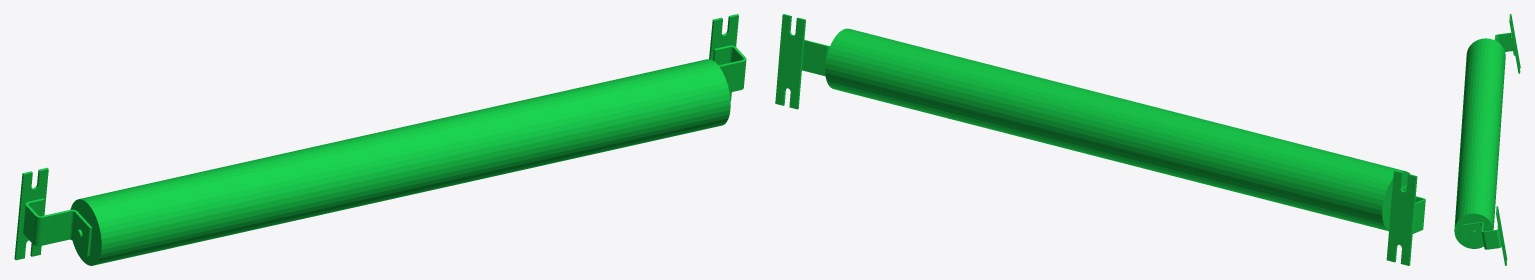
The model's file is rolete1.glb.
3 views of the same model, side by side, from view 1: azimuth 30°, elevation 25°; view 2: azimuth 150°, elevation 25°; view 3: azimuth 270°, elevation 25° (orthographic). The views are drawn at different scales.
Visible parts, largest first — view 1: node_id3; view 2: node_id3; view 3: node_id3.
Part boxes in pixels (<box>): node_id3: <box>14,14,746,265</box>; node_id3: <box>775,14,1425,265</box>; node_id3: <box>1454,14,1520,265</box>.
Bounding box in the file's own units: 0.5118 × 0.0663 × 0.0726.
1 material, 1 textured.
